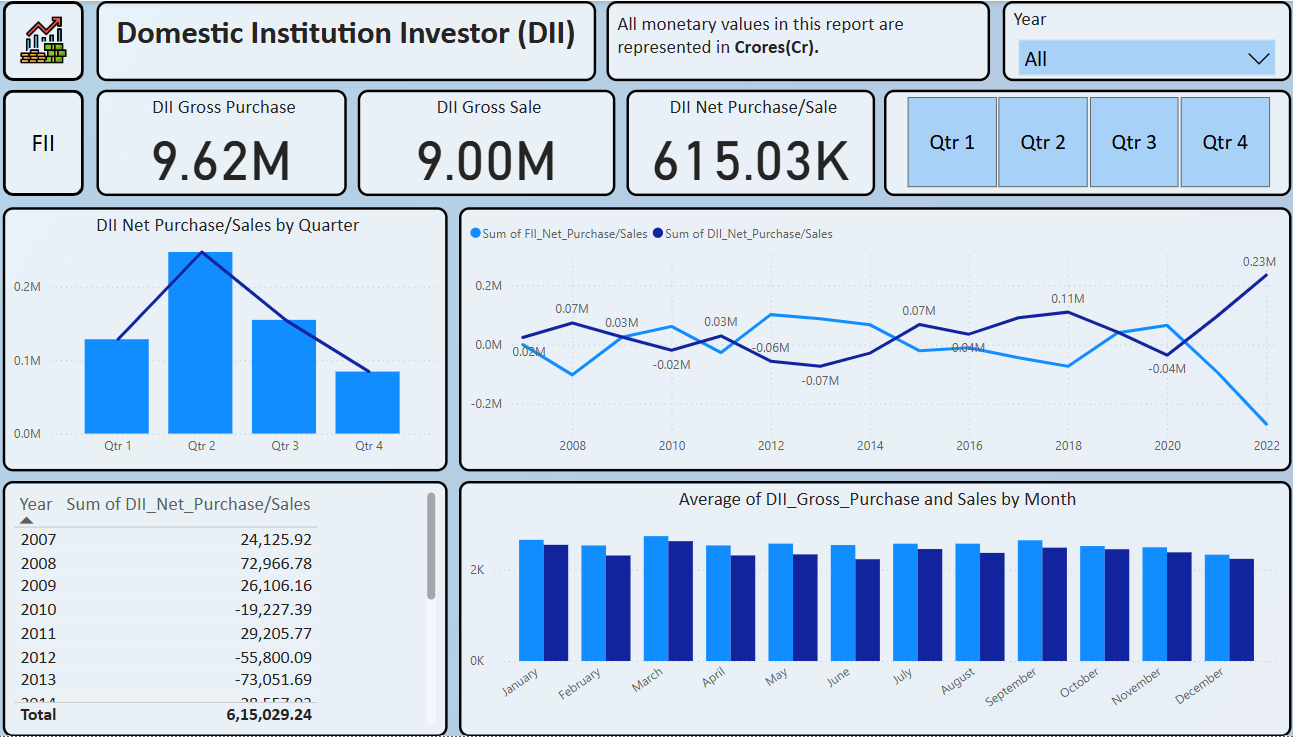

What the dashboard file says about the page in this screenshot:
{"tool":"powerbi","page":{"name":"DII","canvas":[1280,720],"ordinal":1},"visuals":[{"type":"textbox","box":[100.3,0,489.1,78.3],"z":0},{"type":"shape","box":[8.6,0,79.5,78.3],"z":1000},{"type":"image","box":[19.6,7.3,58.7,62.4],"z":2000},{"type":"textbox","box":[599.2,0,375.4,78.3],"z":3000},{"type":"shape","box":[8.6,86.8,79.5,103.9],"z":5000},{"type":"card","title":"DII Gross Purchase","fields":{"Values":["Sum(Fii Dii Trading activity.DII_Gross_Purchase)"]},"box":[100.3,86.8,244.6,103.9],"z":6000},{"type":"card","title":"DII Gross Sale","fields":{"Values":["Sum(Fii Dii Trading activity.DII_Gross_Sales)"]},"box":[355.8,86.8,251.9,103.9],"z":7000},{"type":"card","title":"DII Net Purchase/Sale","fields":{"Values":["Sum(Fii Dii Trading activity.DII_Net_Purchase/Sales)"]},"box":[618.8,86.8,243.3,103.9],"z":8000},{"type":"slicer","fields":{"Values":["Custom_calendar.Date.Variation.Date Hierarchy.Quarter"]},"box":[870.7,86.8,398.6,103.9],"z":9000},{"type":"slicer","title":"Year","fields":{"Values":["Custom_calendar.Date.Variation.Date Hierarchy.Year"]},"box":[986.8,0,282.5,78.3],"z":10000},{"type":"lineChart","title":"FII_Net_Purchase&Sales and DII_Net_Purchase&Sales by Year","fields":{"Category":["Custom_calendar.Date.Variation.Date Hierarchy.Year"],"Y":["Sum(Fii Dii Trading activity.FII_Net_Purchase/Sales)","Sum(Fii Dii Trading activity.DII_Net_Purchase/Sales)"]},"box":[454.9,201.8,814.4,258],"z":11000},{"type":"lineStackedColumnComboChart","title":"DII Net Purchase/Sales  by Quarter","fields":{"Category":["Custom_calendar.Date.Variation.Date Hierarchy.Quarter"],"Y":["Sum(Fii Dii Trading activity.DII_Net_Purchase/Sales)"],"Y2":["Sum(Fii Dii Trading activity.DII_Net_Purchase/Sales)"]},"box":[8.6,201.8,435.3,258],"z":12000},{"type":"clusteredColumnChart","title":"Average of DII_Gross_Purchase and Sales by Month","fields":{"Category":["Custom_calendar.Date.Variation.Date Hierarchy.Month"],"Y":["Avg(Fii Dii Trading activity.DII_Gross_Purchase)","Avg(Fii Dii Trading activity.DII_Gross_Sales)"]},"box":[454.9,469.6,814.4,250.7],"z":13000},{"type":"tableEx","fields":{"Values":["Custom_calendar.Date.Variation.Date Hierarchy.Year","Sum(Fii Dii Trading activity.DII_Net_Purchase/Sales)"]},"box":[8.6,469.6,435.3,250.7],"z":14000},{"type":"pageNavigator","box":[13.5,101.5,69.7,75.8],"z":15000}]}

Visuals, with their boxes in screenshot pixels (x1, y1, x2, y2), scaled from the page's 1280x720 canvas onto the 1293x737 screenshot:
textbox: crop(101, 0, 595, 80)
shape: crop(9, 0, 89, 80)
image: crop(20, 7, 79, 71)
textbox: crop(605, 0, 984, 80)
shape: crop(9, 89, 89, 195)
"DII Gross Purchase" card: crop(101, 89, 348, 195)
"DII Gross Sale" card: crop(359, 89, 614, 195)
"DII Net Purchase/Sale" card: crop(625, 89, 871, 195)
slicer - Custom_calendar.Date.Variation.Date Hierarchy.Quarter: crop(880, 89, 1282, 195)
"Year" slicer: crop(997, 0, 1282, 80)
"FII_Net_Purchase&Sales and DII_Net_Purchase&Sales by Year" lineChart: crop(460, 207, 1282, 471)
"DII Net Purchase/Sales  by Quarter" lineStackedColumnComboChart: crop(9, 207, 448, 471)
"Average of DII_Gross_Purchase and Sales by Month" clusteredColumnChart: crop(460, 481, 1282, 736)
tableEx - Custom_calendar.Date.Variation.Date Hierarchy.Year x Sum(Fii Dii Trading activity.DII_Net_Purchase/Sales): crop(9, 481, 448, 736)
pageNavigator: crop(14, 104, 84, 181)
